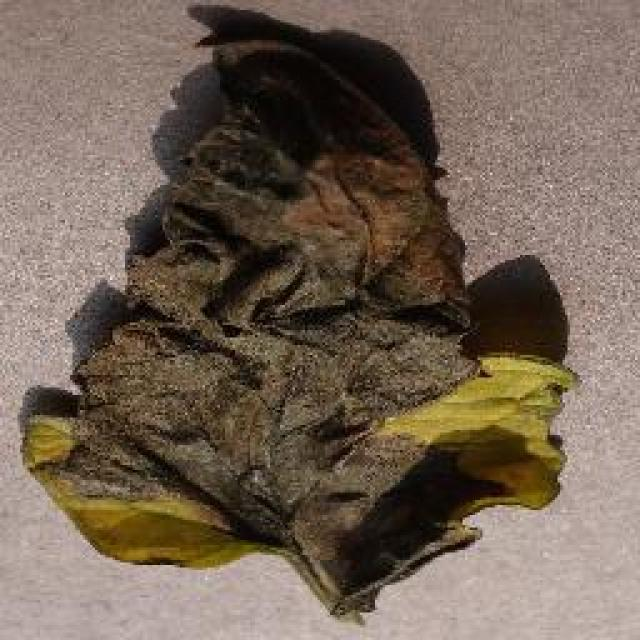Tomato Late Blight: (102, 5, 443, 585)
